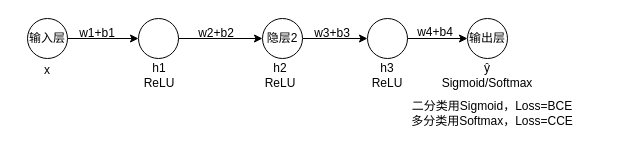
Image size: 644x145. Some labels were removed from this diagram. The centre of each missing label's shape, as x and y in pixels:
"隐层1" belongs at (158,38).
"隐层3" belongs at (387,38).
